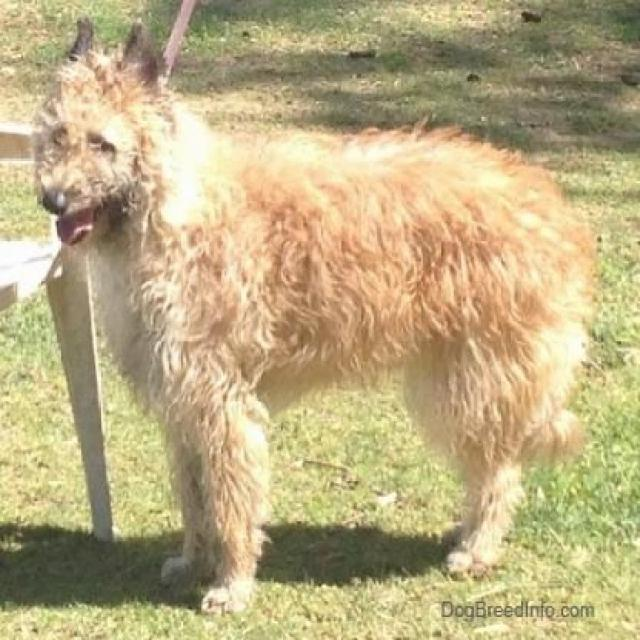animals: (36, 11, 598, 592)
